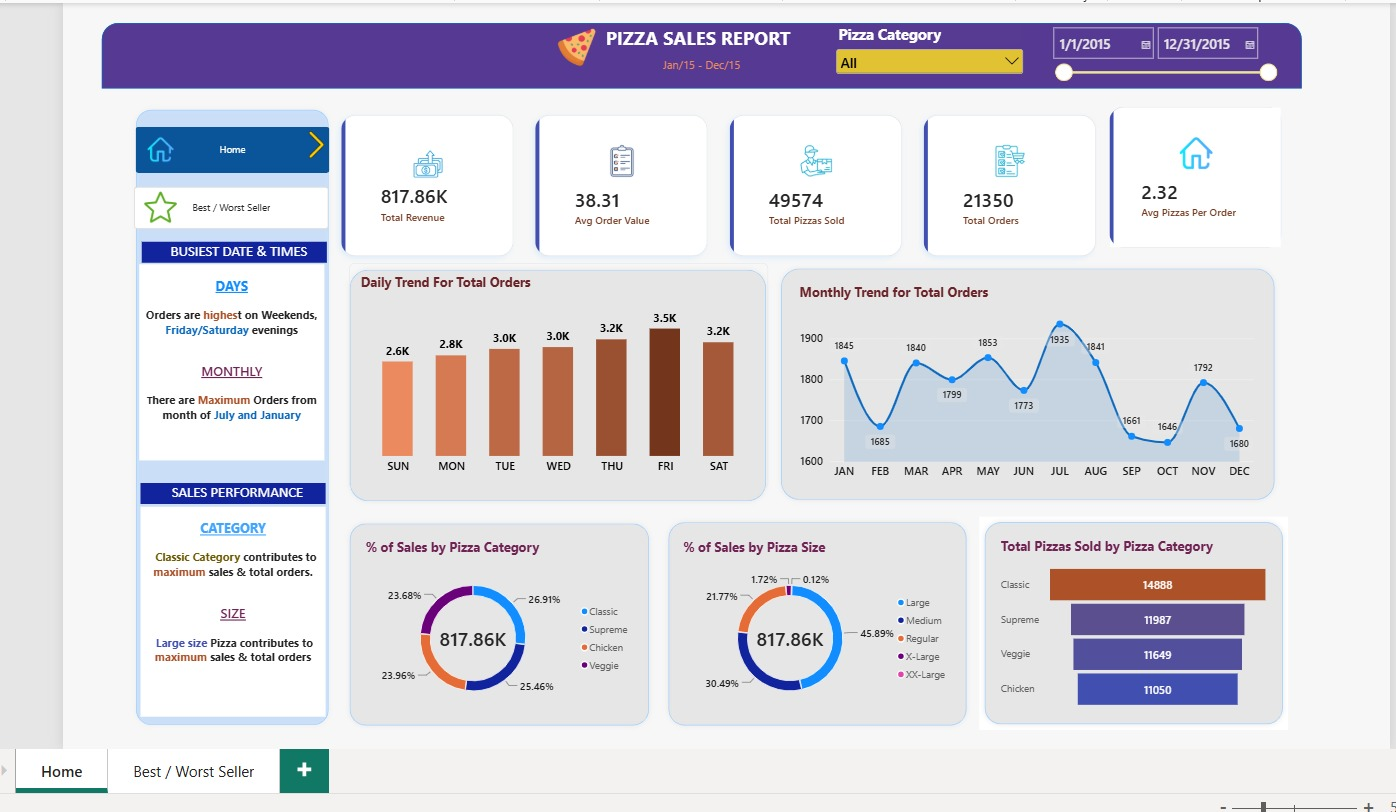

This screenshot's page, from the dashboard's own definition file:
{"tool":"powerbi","page":{"name":"Home","canvas":[1920,1080],"ordinal":0},"visuals":[{"type":"cardVisual","fields":{"Data":["pizza_sales.Total Revenue","pizza_sales.Average Order Value","pizza_sales.Total Pizzas Sold","pizza_sales.Total Orders","pizza_sales.Average Pizzas Per Order"]},"box":[390.9,150.2,1398.3,228.8],"z":0},{"type":"shape","box":[56.1,29,1737.3,94.9],"z":1000},{"type":"textbox","box":[781.4,32.2,288.1,59.3],"z":2000},{"type":"textbox","box":[867.8,78,201.7,69.5],"z":3000},{"type":"shape","box":[406.8,378,618.6,350.8],"z":4000},{"type":"columnChart","title":"Daily Trend For Total Orders","fields":{"Category":["pizza_sales.Order Day"],"Y":["pizza_sales.Total Orders"]},"box":[413.6,376.3,606.8,327.1],"z":5000},{"type":"shape","box":[1032.2,376.3,730.5,350.8],"z":6000},{"type":"areaChart","title":"Monthly Trend for Total Orders","fields":{"Category":["pizza_sales.Order Month"],"Y":["pizza_sales.Total Orders"]},"box":[1049.2,391.5,691.5,320.3],"z":7000},{"type":"shape","box":[406.8,745.8,449.2,308.5],"z":8000},{"type":"shape","box":[867.8,744.1,447.5,310.2],"z":9000},{"type":"shape","box":[1327.1,744.1,447.5,308.5],"z":10000},{"type":"donutChart","title":"% of Sales by Pizza Category","fields":{"Category":["pizza_sales.pizza_category"],"Y":["pizza_sales.Total Revenue"]},"box":[422,759.3,422,279.7],"z":11000},{"type":"donutChart","title":"% of Sales by Pizza Size","fields":{"Category":["pizza_sales.pizza_size"],"Y":["pizza_sales.Total Revenue"]},"box":[881.4,759.3,422,279.7],"z":12000},{"type":"funnel","title":"Total Pizzas Sold by Pizza Category","fields":{"Category":["pizza_sales.pizza_category"],"Y":["pizza_sales.Total Pizzas Sold"]},"box":[1340.7,757.6,422,279.7],"z":13000},{"type":"shape","box":[98.3,147.5,294.9,906.8],"z":14000},{"type":"textbox","box":[113.2,345.8,267.8,30.8],"z":15000},{"type":"textbox","box":[111.1,378.7,267.8,284.1],"z":16000},{"type":"textbox","box":[112.2,694.9,267.8,30.8],"z":17000},{"type":"textbox","box":[112.2,729.3,267.8,304],"z":18000},{"type":"slicer","fields":{"Values":["pizza_sales.pizza_category"]},"box":[1115.6,30.9,279.9,94.7],"z":19000},{"type":"slicer","fields":{"Values":["pizza_sales.order_date"]},"box":[1426.4,30.9,335.5,94.7],"z":20000},{"type":"pageNavigator","box":[105,179.1,282,67.9],"z":20001},{"type":"pageNavigator","box":[102.9,265.5,282,61.7],"z":20002},{"type":"image","box":[117.3,255.2,47.3,80.3],"z":20003},{"type":"image","box":[347.9,179.1,39.1,51.5],"z":20004},{"type":"image","box":[117.3,193.5,47.3,37],"z":20005},{"type":"image","box":[705.8,36.2,76,56.1],"z":20006}]}

Visuals, with their boxes on the page's 1920x1080 design canvas (x1, y1, x2, y2). These are canvas units, not pixel positions in the 1396x812 screenshot, which may show the page scaled, cropped or inside an application window:
cardVisual - pizza_sales.Total Revenue x pizza_sales.Average Order Value: x1=391, y1=150, x2=1789, y2=379
shape: x1=56, y1=29, x2=1793, y2=124
textbox: x1=781, y1=32, x2=1070, y2=92
textbox: x1=868, y1=78, x2=1070, y2=148
shape: x1=407, y1=378, x2=1025, y2=729
"Daily Trend For Total Orders" columnChart: x1=414, y1=376, x2=1020, y2=703
shape: x1=1032, y1=376, x2=1763, y2=727
"Monthly Trend for Total Orders" areaChart: x1=1049, y1=392, x2=1741, y2=712
shape: x1=407, y1=746, x2=856, y2=1054
shape: x1=868, y1=744, x2=1315, y2=1054
shape: x1=1327, y1=744, x2=1775, y2=1053
"% of Sales by Pizza Category" donutChart: x1=422, y1=759, x2=844, y2=1039
"% of Sales by Pizza Size" donutChart: x1=881, y1=759, x2=1303, y2=1039
"Total Pizzas Sold by Pizza Category" funnel: x1=1341, y1=758, x2=1763, y2=1037
shape: x1=98, y1=148, x2=393, y2=1054
textbox: x1=113, y1=346, x2=381, y2=377
textbox: x1=111, y1=379, x2=379, y2=663
textbox: x1=112, y1=695, x2=380, y2=726
textbox: x1=112, y1=729, x2=380, y2=1033
slicer - pizza_sales.pizza_category: x1=1116, y1=31, x2=1396, y2=126
slicer - pizza_sales.order_date: x1=1426, y1=31, x2=1762, y2=126
pageNavigator: x1=105, y1=179, x2=387, y2=247
pageNavigator: x1=103, y1=266, x2=385, y2=327
image: x1=117, y1=255, x2=165, y2=336
image: x1=348, y1=179, x2=387, y2=231
image: x1=117, y1=194, x2=165, y2=230
image: x1=706, y1=36, x2=782, y2=92
